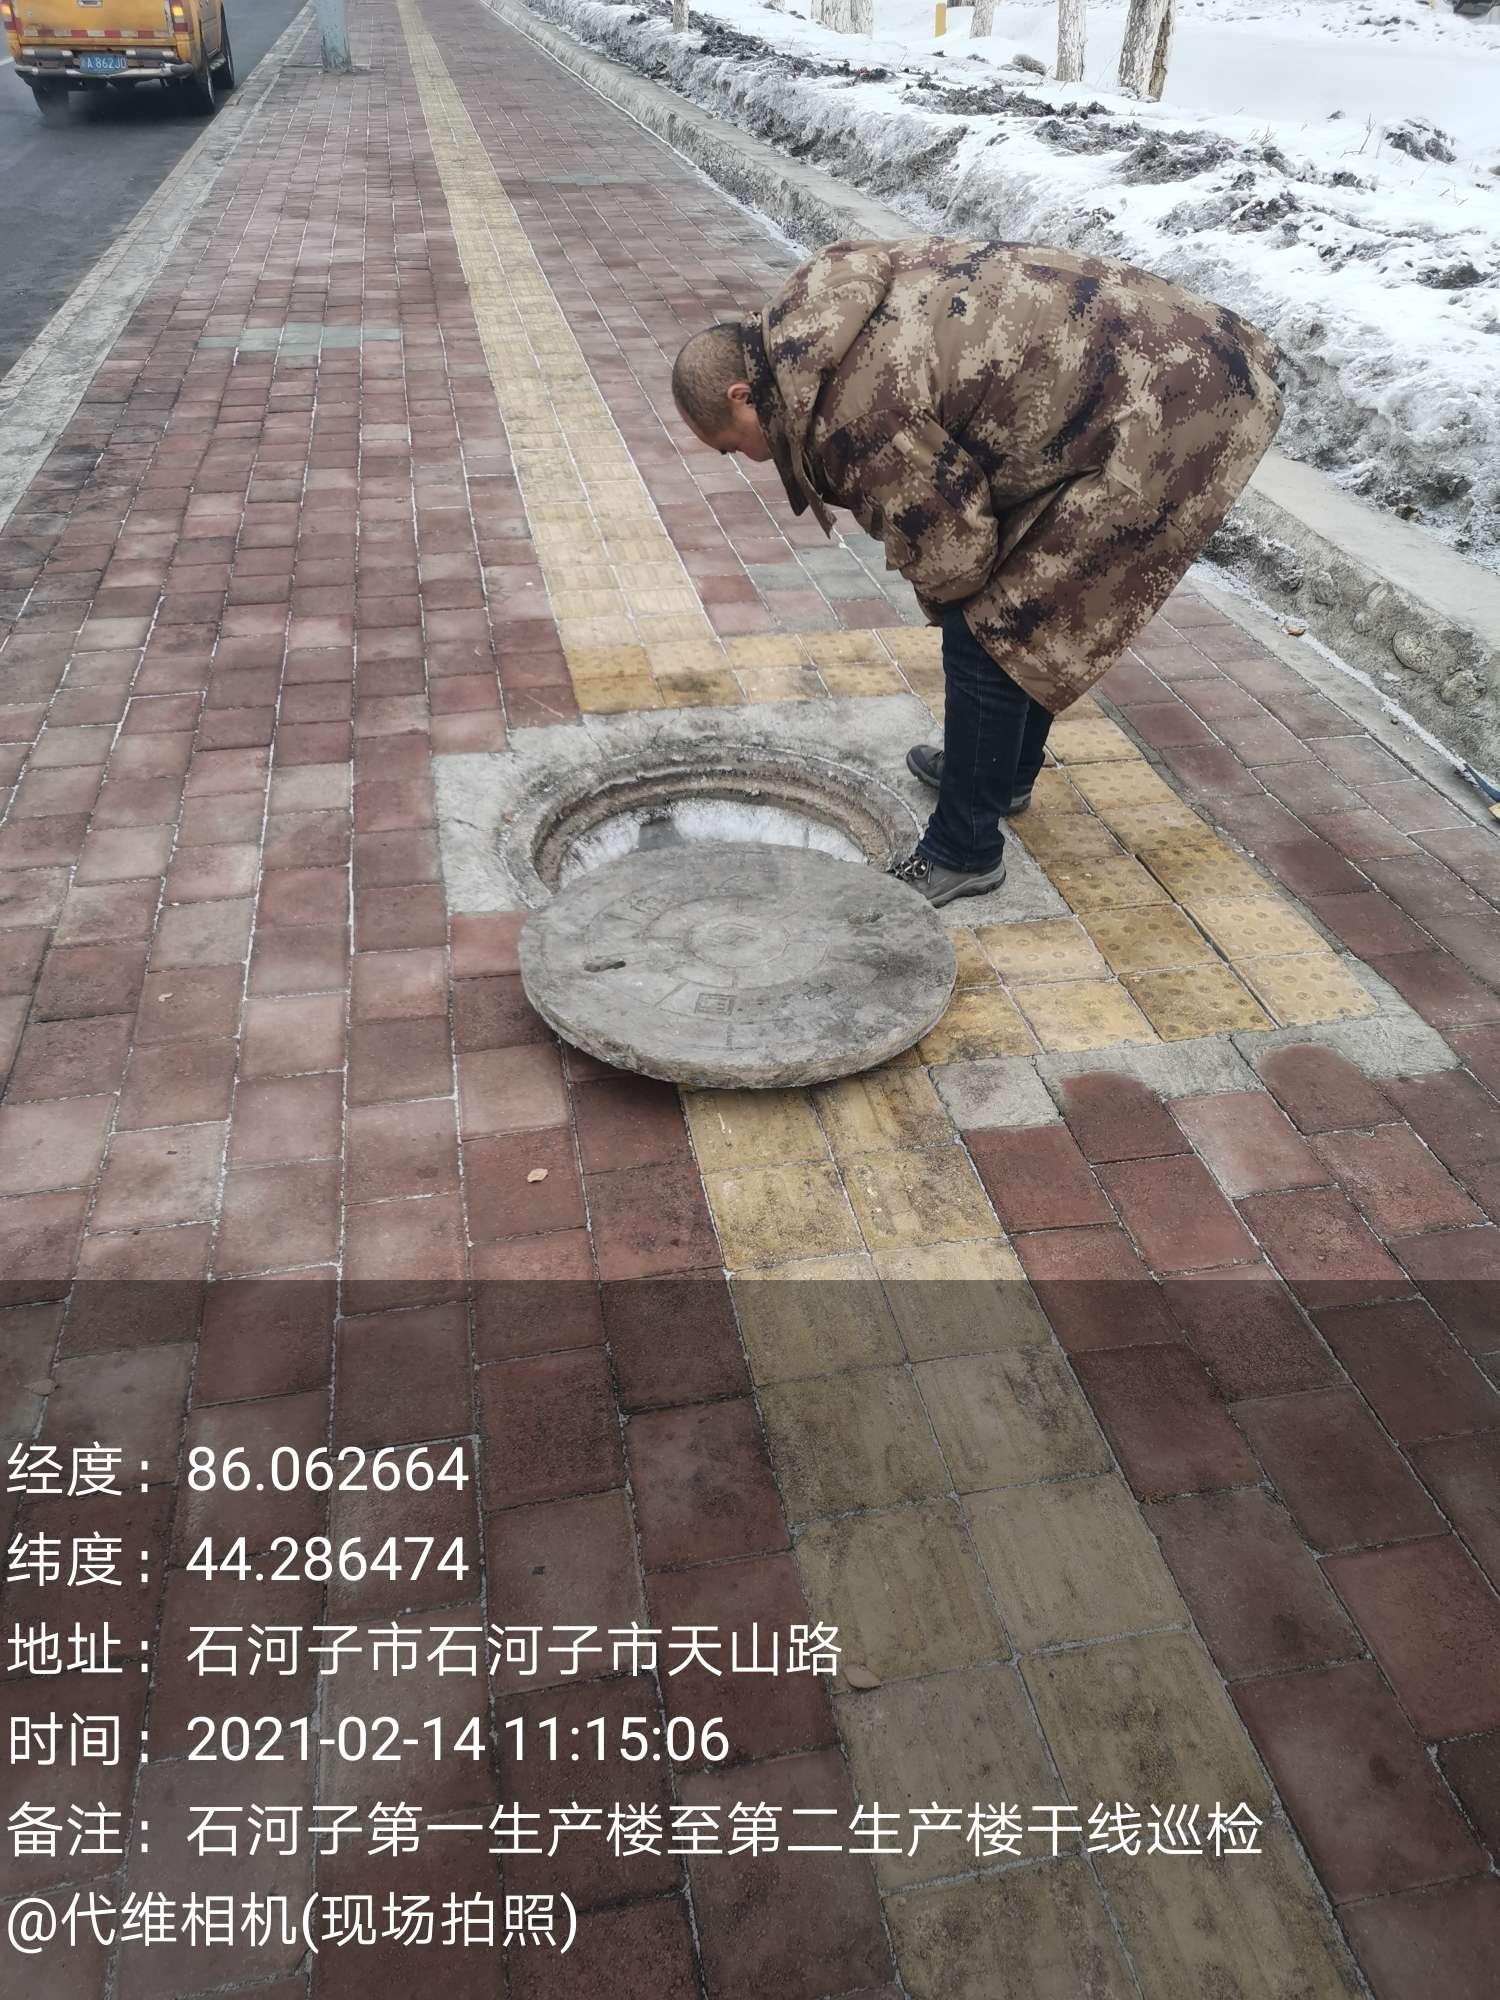wellcover: (447, 707, 1005, 1093)
